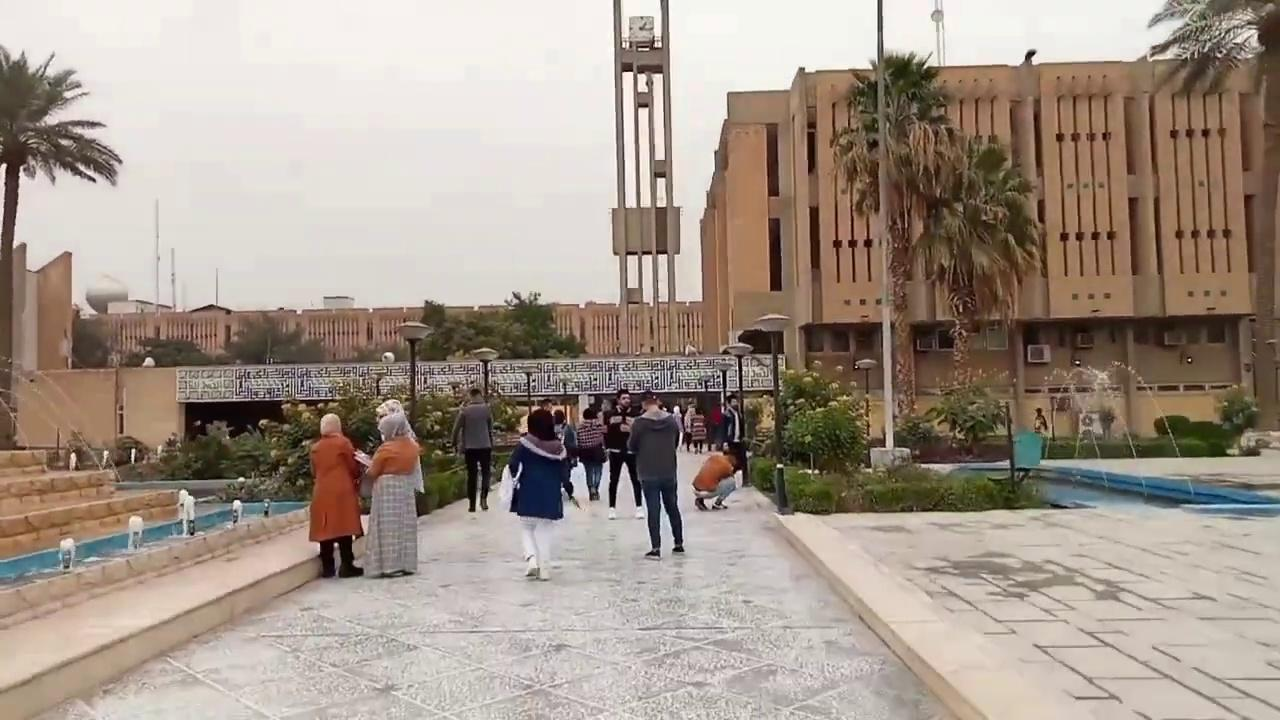car: (1239, 427, 1279, 449)
fountain: (951, 357, 1278, 516), (1, 491, 309, 584), (1035, 357, 1183, 459)
person: (507, 408, 571, 580), (360, 411, 425, 578), (626, 390, 685, 558), (308, 412, 365, 578), (603, 389, 646, 519), (451, 387, 494, 512), (691, 448, 741, 510), (176, 488, 196, 536), (1033, 406, 1048, 458), (231, 497, 243, 524)
tree: (828, 48, 1044, 448), (1137, 0, 1279, 432), (0, 43, 122, 447), (155, 379, 527, 509), (899, 124, 1043, 399), (1137, 0, 1279, 98), (414, 289, 587, 360), (922, 382, 1009, 457), (784, 401, 867, 474)
